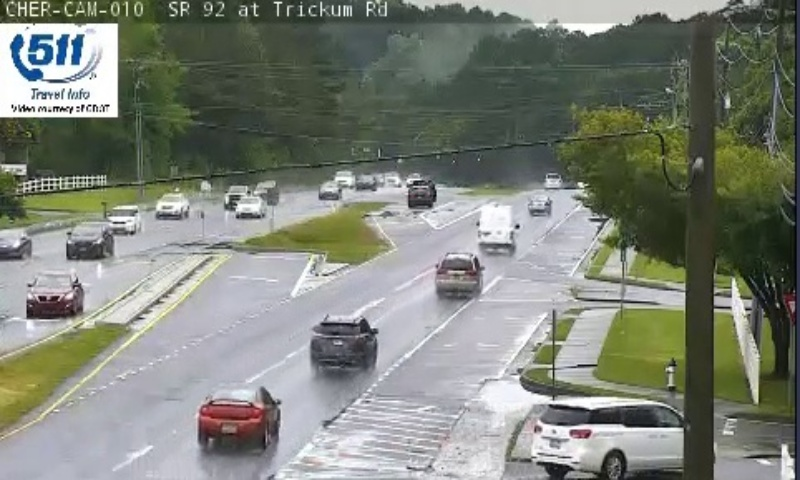car: (199, 387, 282, 438), (310, 315, 375, 364), (436, 252, 479, 294), (527, 193, 551, 214)
van: (478, 203, 514, 250)
